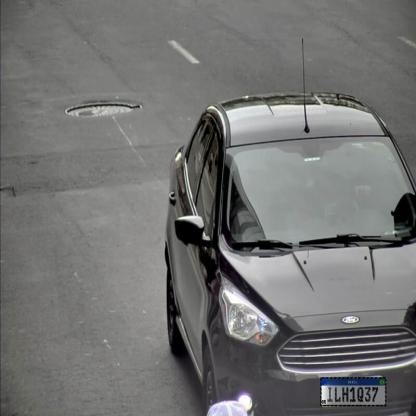PlacaM: (320, 377, 387, 406)
